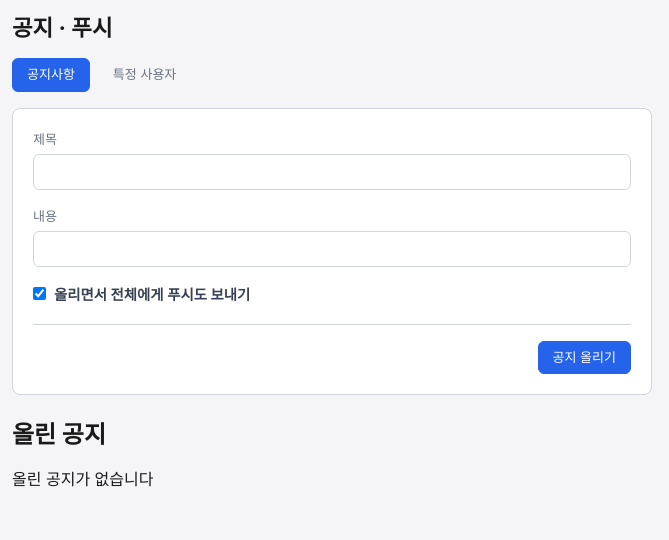
Test: PushPage › can post a notice without pushing
This screenshot has width=669, height=540.
In the field labelled "제목": (332,172) [33,154,631,190], type "조용한 공지"
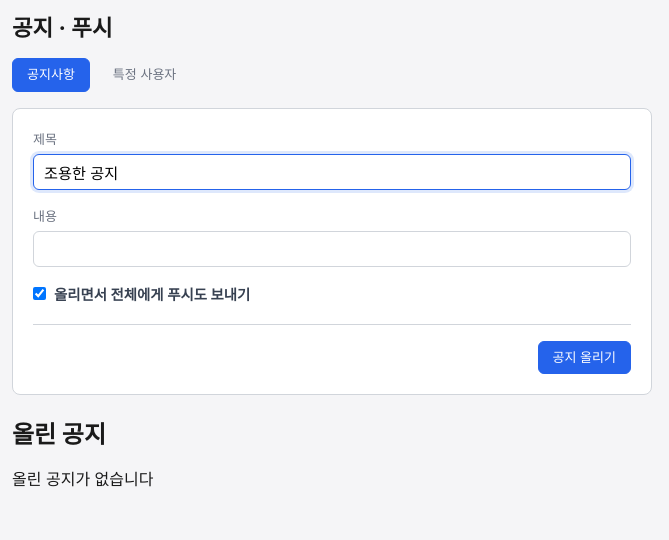
In the field labelled "내용": (332,249) [33,231,631,267], type "알림 없이 올립니다"
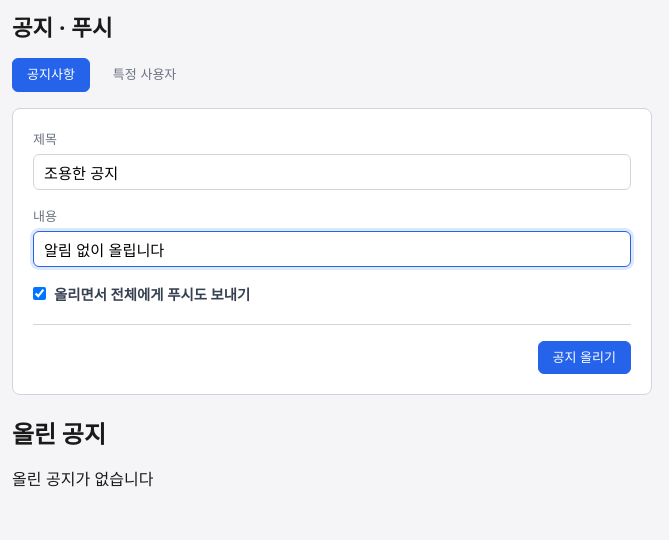
Click the checkbox labelled "올리면서 전체에게 푸시도 보내기": (40,293) [33,287,46,300]
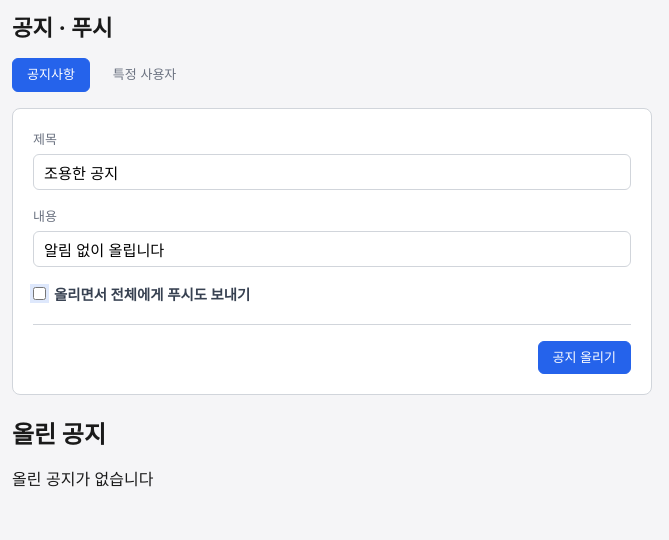
Click the button "공지 올리기": (584,357) [538,341,631,374]
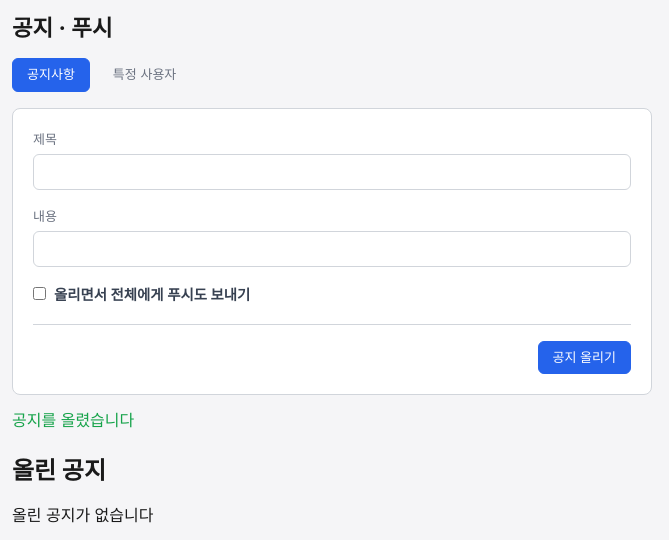
Expected: the text "공지를 올렸습니다" is shown, [12,410,134,430]
